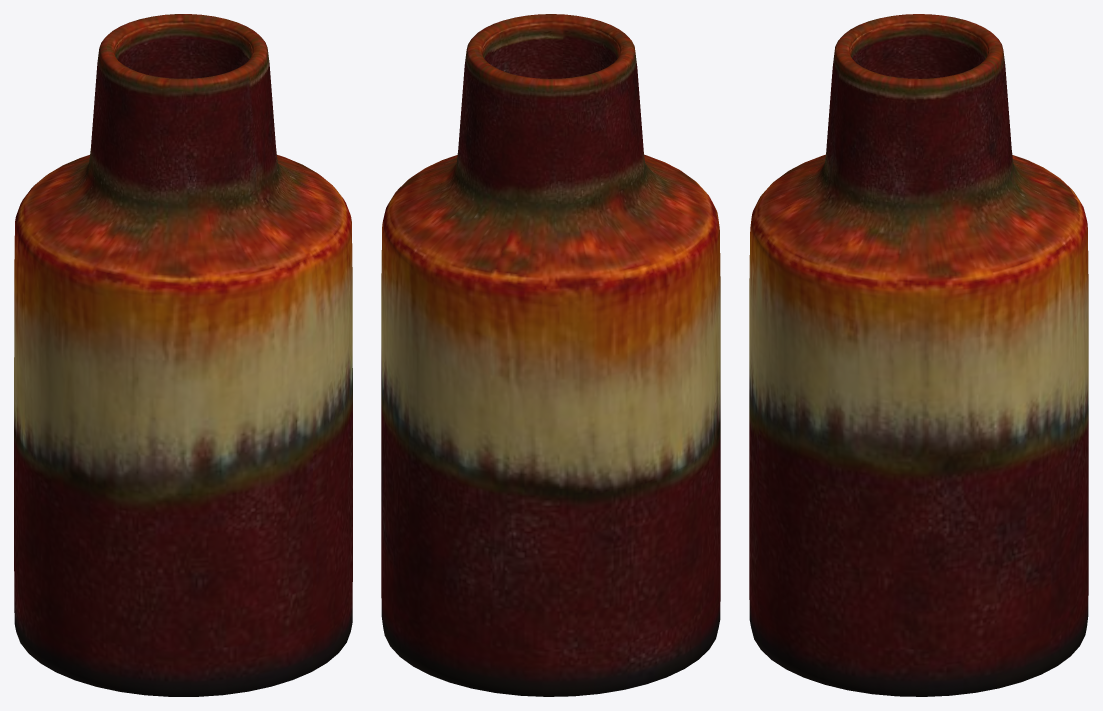
3 renders of one model, left to right at view 1: azimuth 30°, elevation 25°; view 2: azimuth 150°, elevation 25°; view 3: azimuth 270°, elevation 25°, orthographic.
Visible parts, largest first — view 1: RootNode; view 2: RootNode; view 3: RootNode.
Part boxes in pixels (box(x1,y1,x2,y2)): RootNode: box(14, 14, 352, 696); RootNode: box(381, 14, 720, 696); RootNode: box(749, 14, 1088, 696).
Bounding box in the file's own units: 0.1075 × 0.203 × 0.1075.
1 material, 1 textured.
